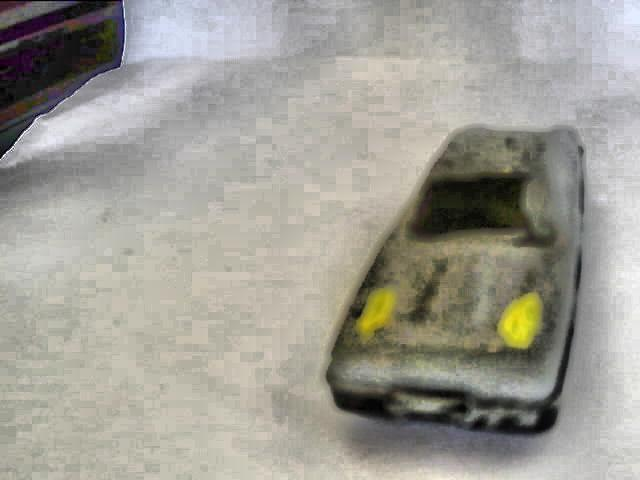normal_car: (322, 113, 588, 442)
